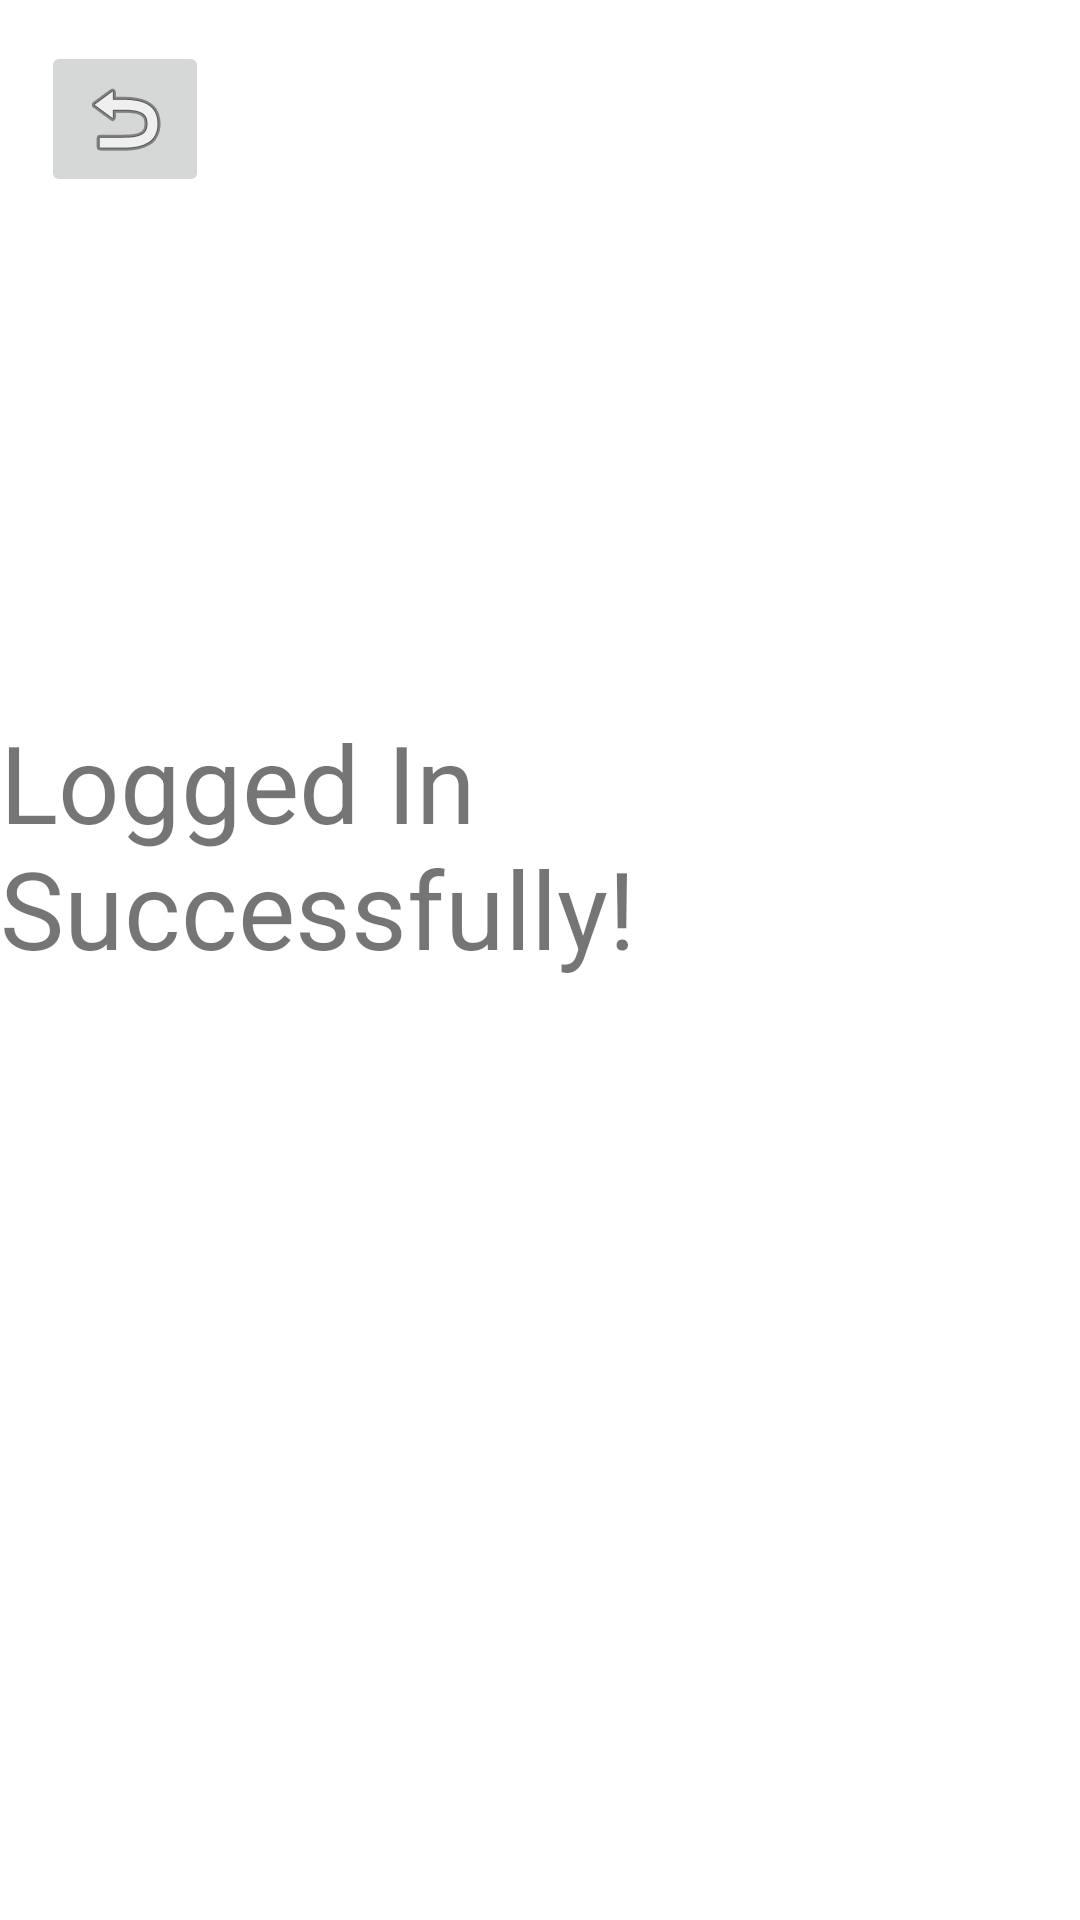

Named icons in this screenshot (1080x1920) and their bounding boxes, [x1,y1,x2,y2]:
revert: [53,59,197,179]
